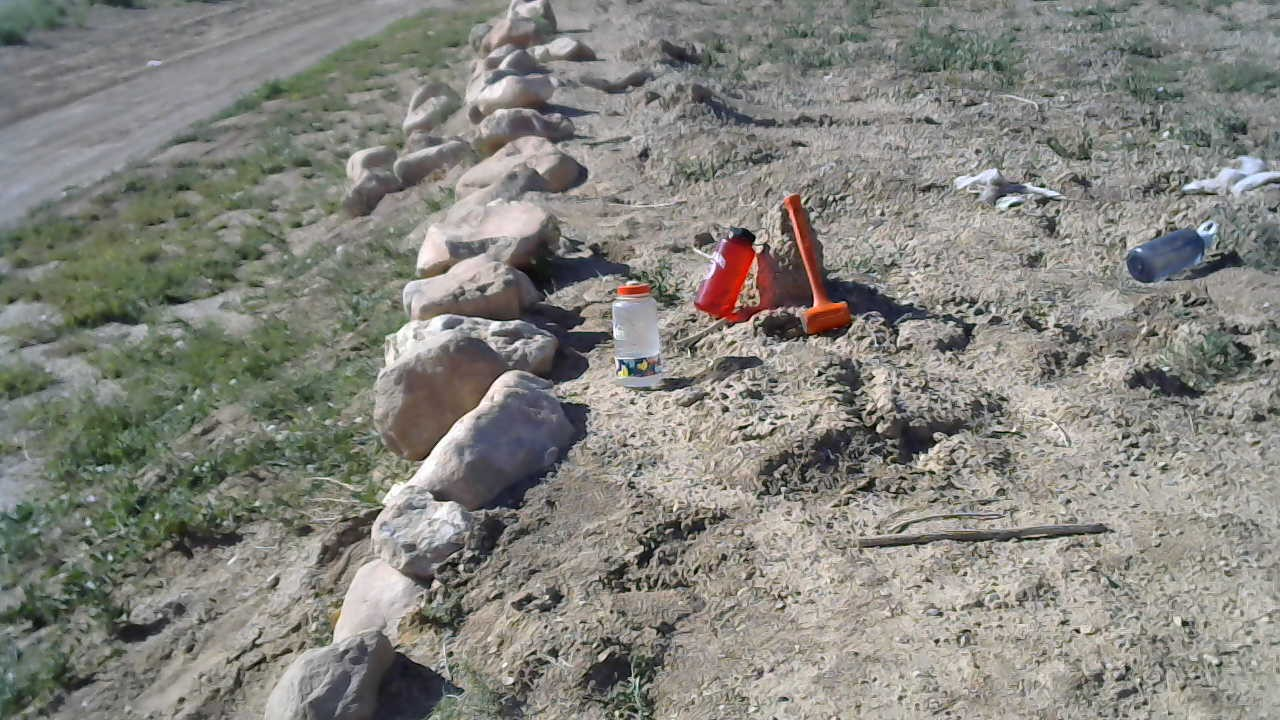bottle: (1124, 218, 1220, 289), (608, 276, 665, 392), (691, 223, 757, 318)
hammer: (779, 191, 854, 339)
